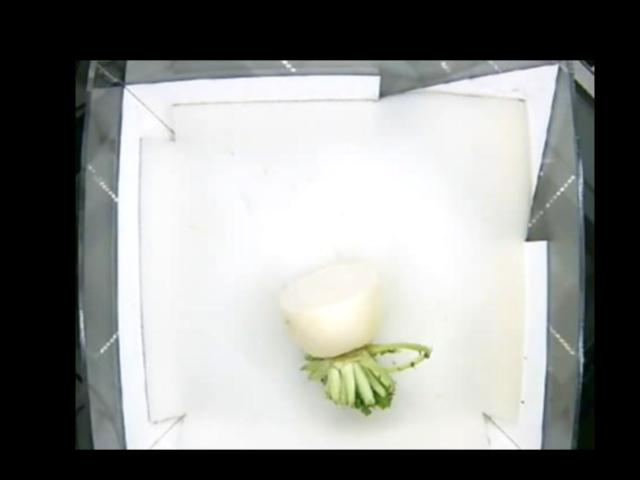Mooli: (280, 259, 425, 413)
